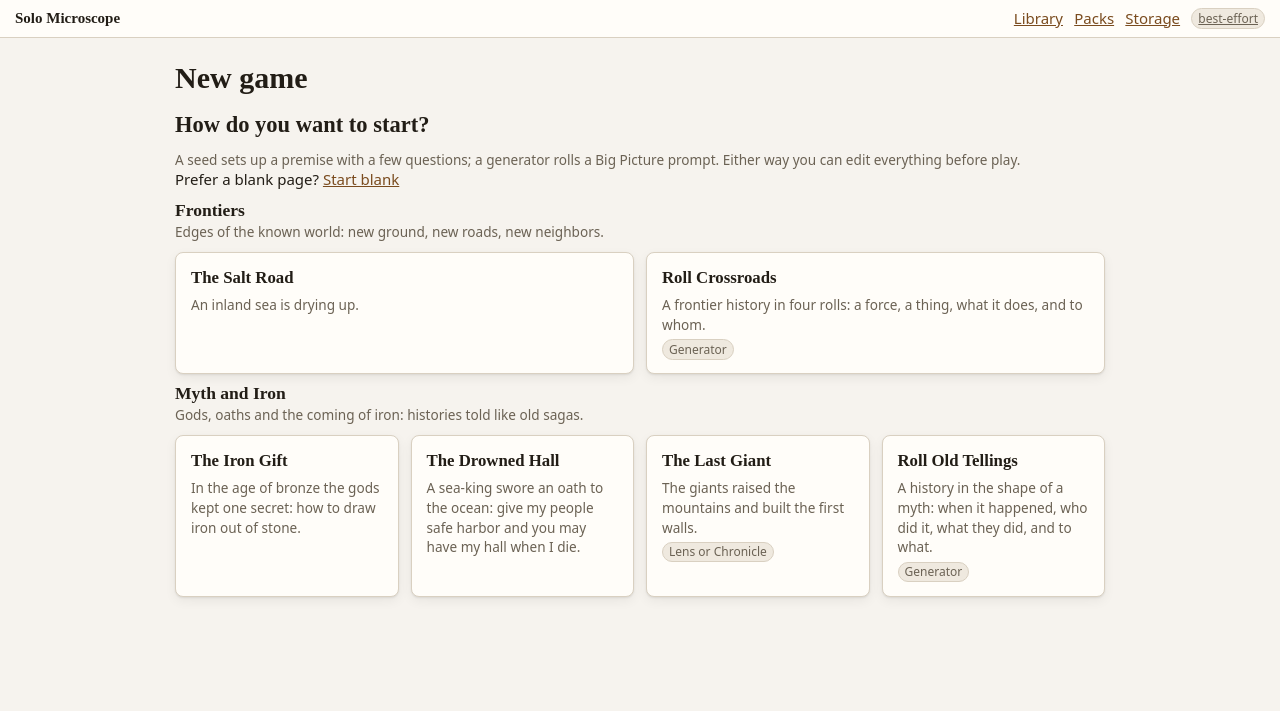
Scenario: New game: choose a start first › a seed for either ruleset lets the player choose
This screenshot has width=1280, height=711.
Click the button "The Last Giant" at (758, 516), box [646,435,870,597]
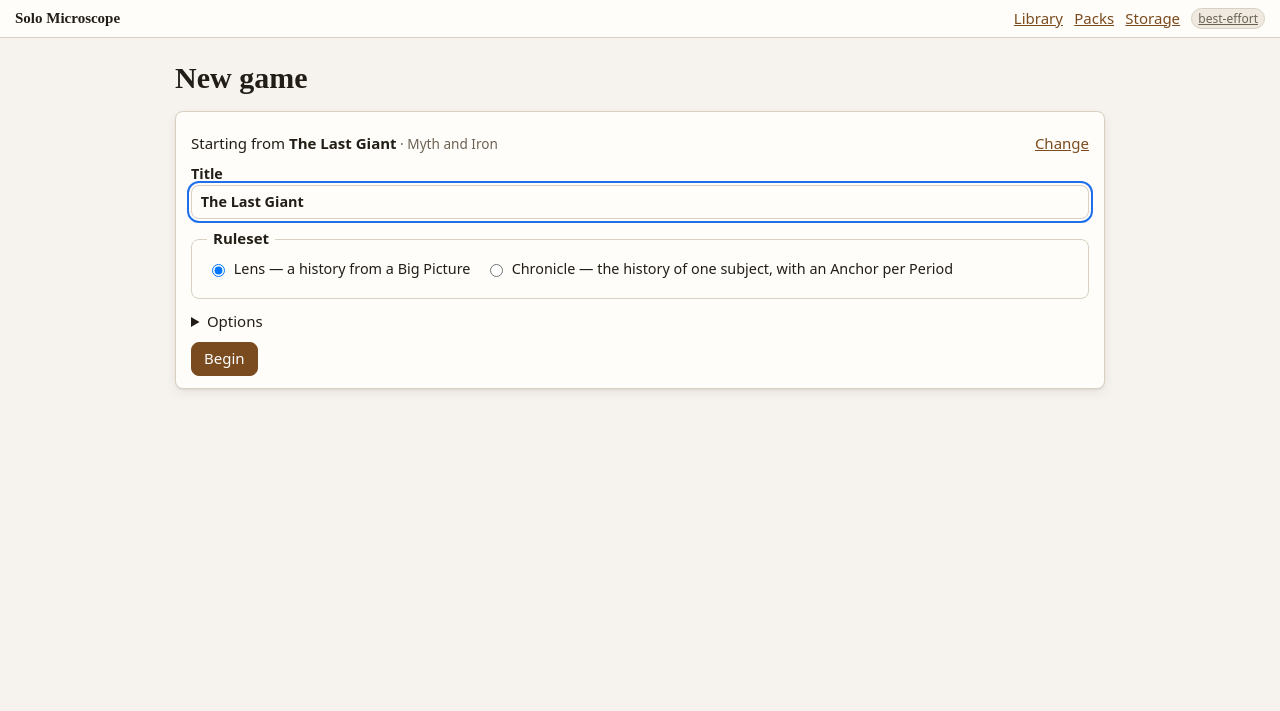
Click the radio button labelled "Chronicle" at (496, 271), box [490,264,503,277]
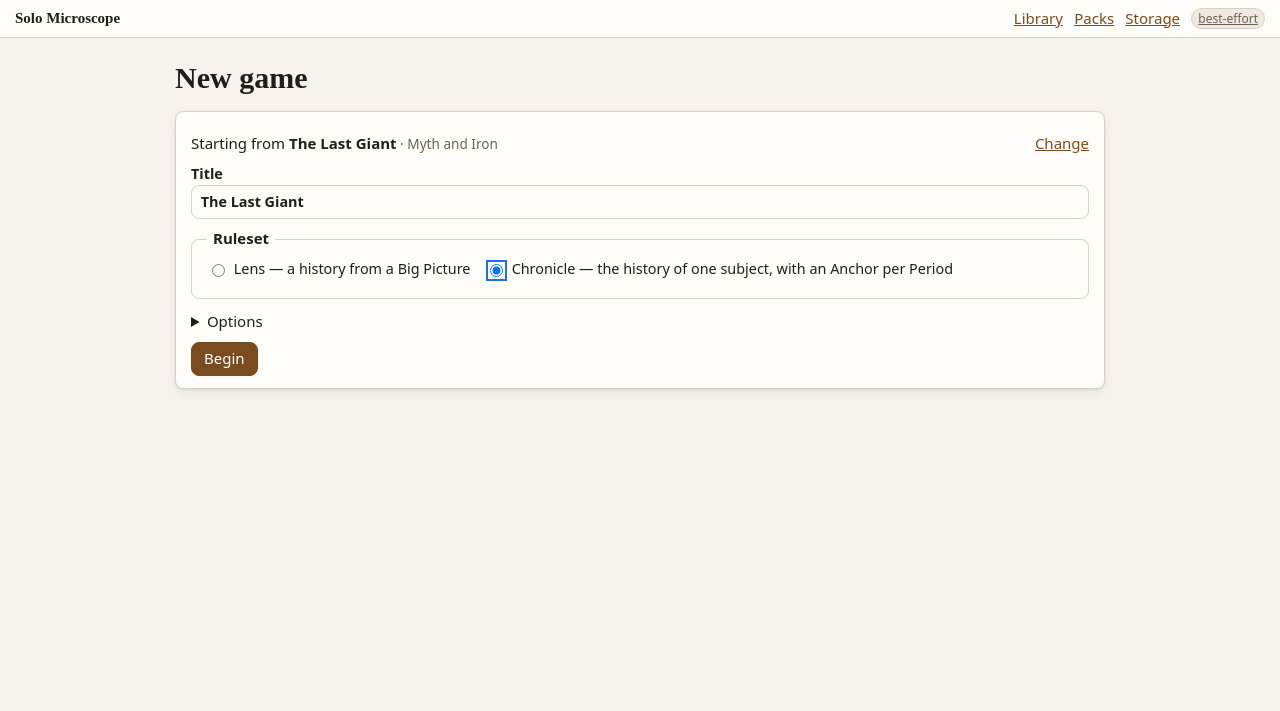
Click the button "Begin" at (224, 359), box [191,342,258,376]
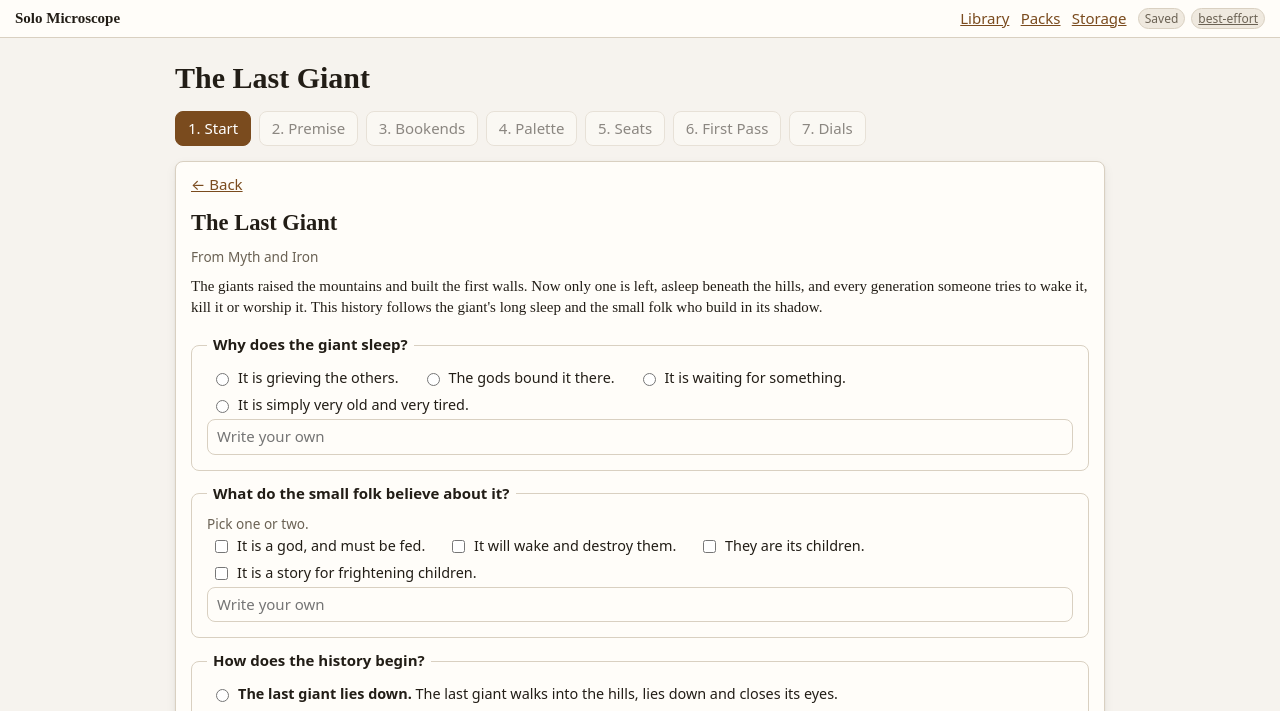
Expected: the list named "Setup steps" is shown, [175,111,866,146]
